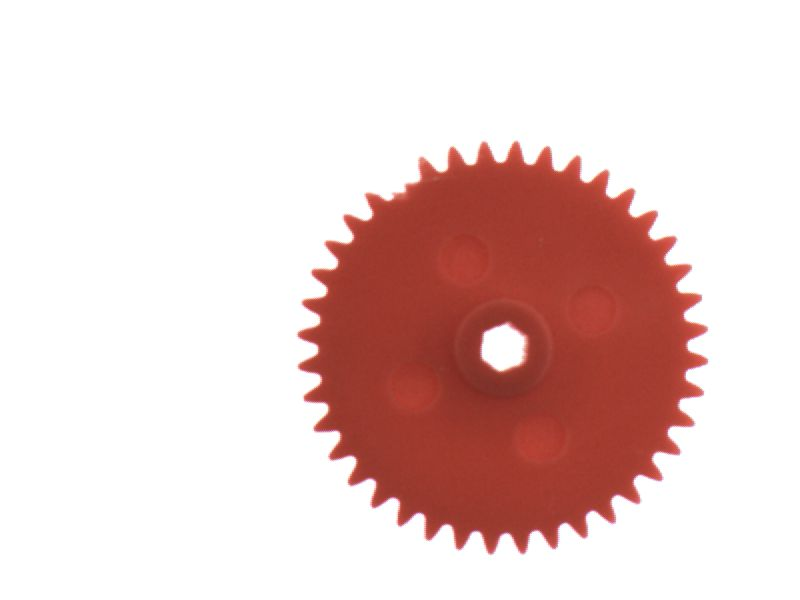defect_lack: (371, 164, 432, 210)
